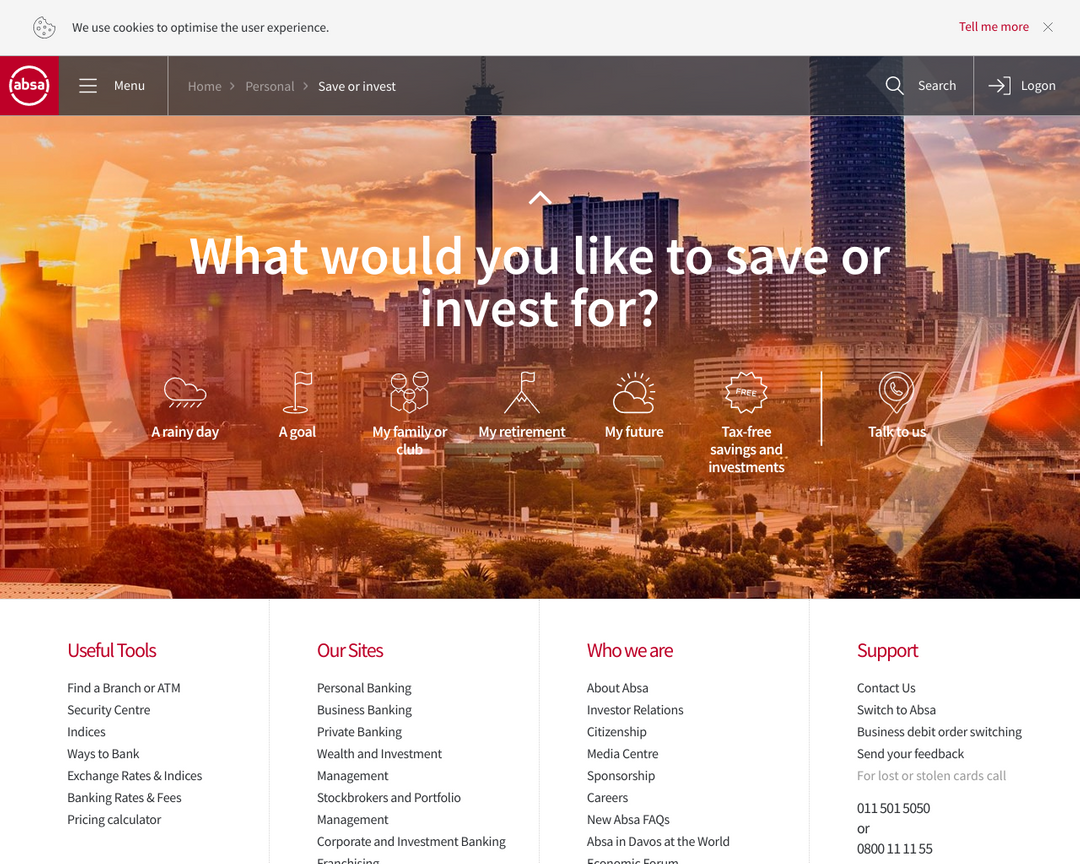ABSA: (5, 64, 53, 108)
